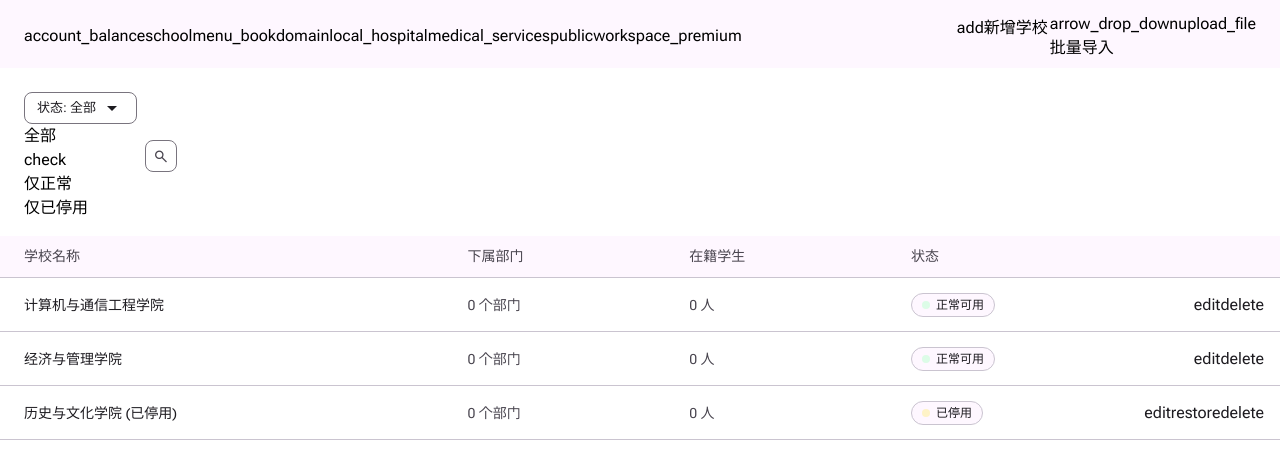
Test case: EssentialsManagementView › filters reference items using ExpandableSearchBar
Expected: the text "计算机与通信工程学院" is shown, [24,296,164,312]
Expected: the text "经济与管理学院" is shown, [24,350,122,366]
Expand search bar
Click the button named "展开搜索".
click(161, 156)  # box [145,140,177,172]
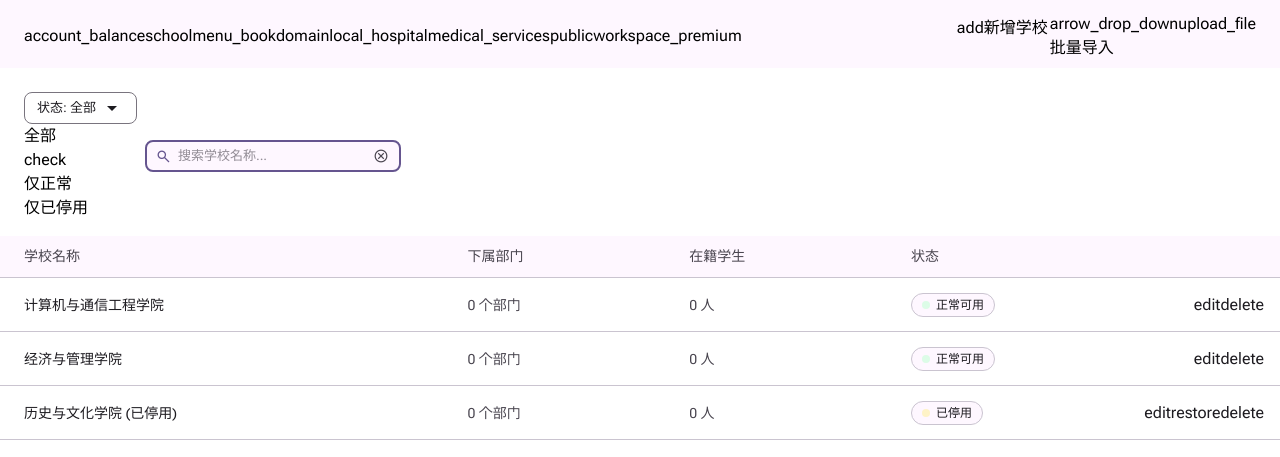
Type "计算机" into the field.
click(272, 156); type("计算机")  # box [178,146,365,166]
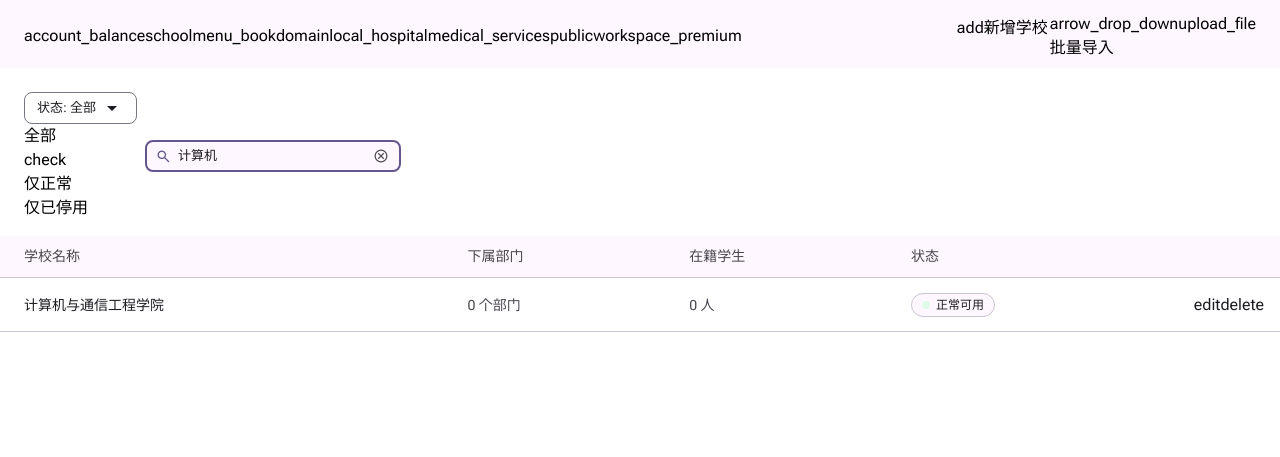
Expected: the text "计算机与通信工程学院" is shown, [24,296,164,312]
Expected: the text "经济与管理学院" is gone
Clear search
Click the button named "清除搜索".
click(381, 156)  # box [371,146,391,166]
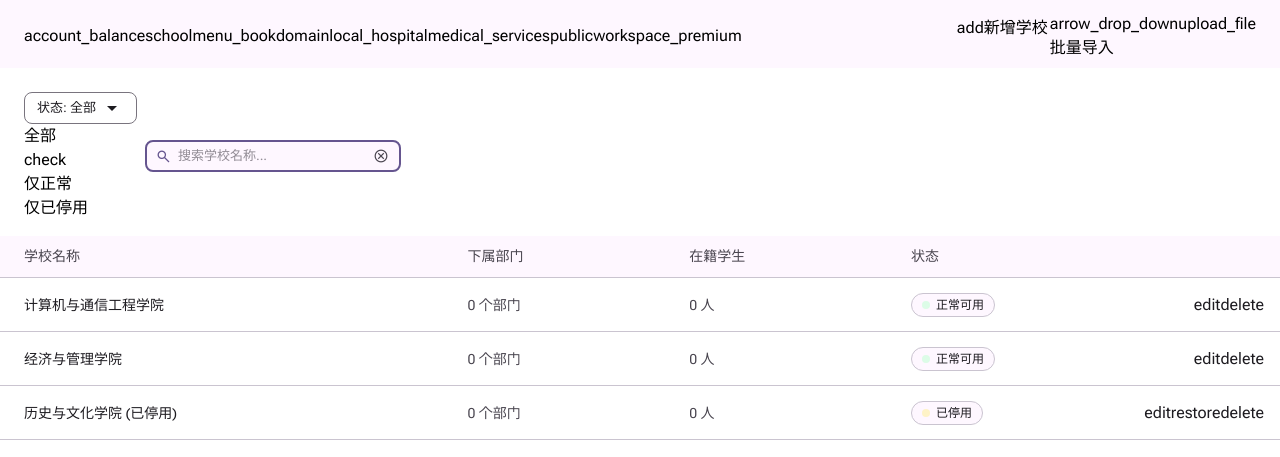
Expected: the text "计算机与通信工程学院" is shown, [24,296,164,312]
Expected: the text "经济与管理学院" is shown, [24,350,122,366]
